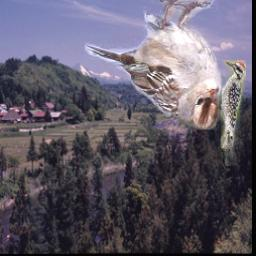Sparrow: (84, 0, 226, 131)
Woodpecker: (220, 61, 245, 167)
